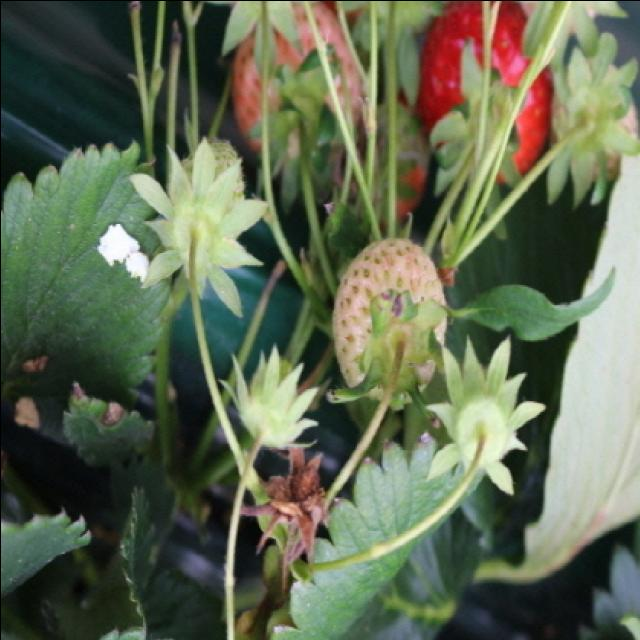Gray Mold: (239, 447, 329, 593)
